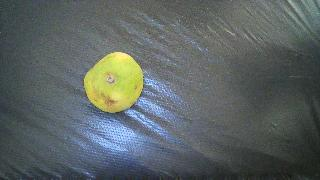DESECHO: (84, 52, 143, 113)
